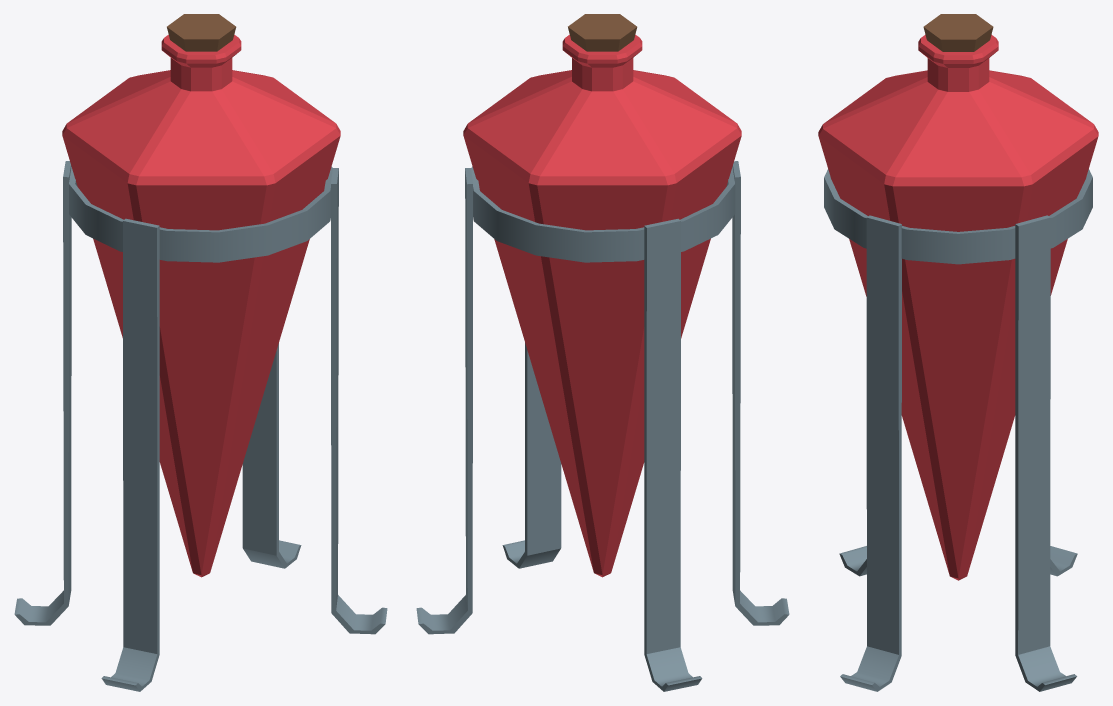
Rendered from Potion_05_Red.fbx.
3 views of the same model, side by side, from view 1: azimuth 30°, elevation 25°; view 2: azimuth 150°, elevation 25°; view 3: azimuth 270°, elevation 25° (orthographic).
Visible parts, largest first — view 1: Cone, Cube.003, Cylinder.006, Cube.004, Cube.005, Cube.002, Cylinder, Cylinder.001; view 2: Cone, Cube.005, Cylinder.006, Cube.002, Cube.003, Cube.004, Cylinder, Cylinder.001; view 3: Cone, Cube.004, Cube.002, Cylinder.006, Cylinder, Cylinder.001, Cube.005, Cube.003.
Boxes of the visible parts, x1,y1,x2,y2 form: Cone: [62, 70, 340, 577]; Cube.003: [101, 218, 159, 691]; Cylinder.006: [69, 166, 332, 262]; Cube.004: [242, 343, 301, 568]; Cube.005: [14, 161, 71, 625]; Cube.002: [331, 168, 387, 634]; Cylinder: [161, 34, 241, 91]; Cylinder.001: [167, 14, 236, 51]; Cone: [463, 70, 741, 577]; Cube.005: [644, 218, 702, 691]; Cylinder.006: [471, 166, 735, 262]; Cube.002: [502, 343, 561, 568]; Cube.003: [732, 161, 789, 625]; Cube.004: [416, 168, 472, 634]; Cylinder: [562, 34, 642, 91]; Cylinder.001: [568, 14, 637, 51]; Cone: [818, 70, 1098, 580]; Cube.004: [1015, 215, 1076, 691]; Cube.002: [840, 215, 901, 691]; Cylinder.006: [824, 169, 1092, 264]; Cylinder: [918, 34, 998, 91]; Cylinder.001: [923, 14, 993, 51]; Cube.005: [1050, 546, 1077, 576]; Cube.003: [839, 546, 866, 576].
Size of the model in its own units: 19.94 by 39.59 by 16.79.
